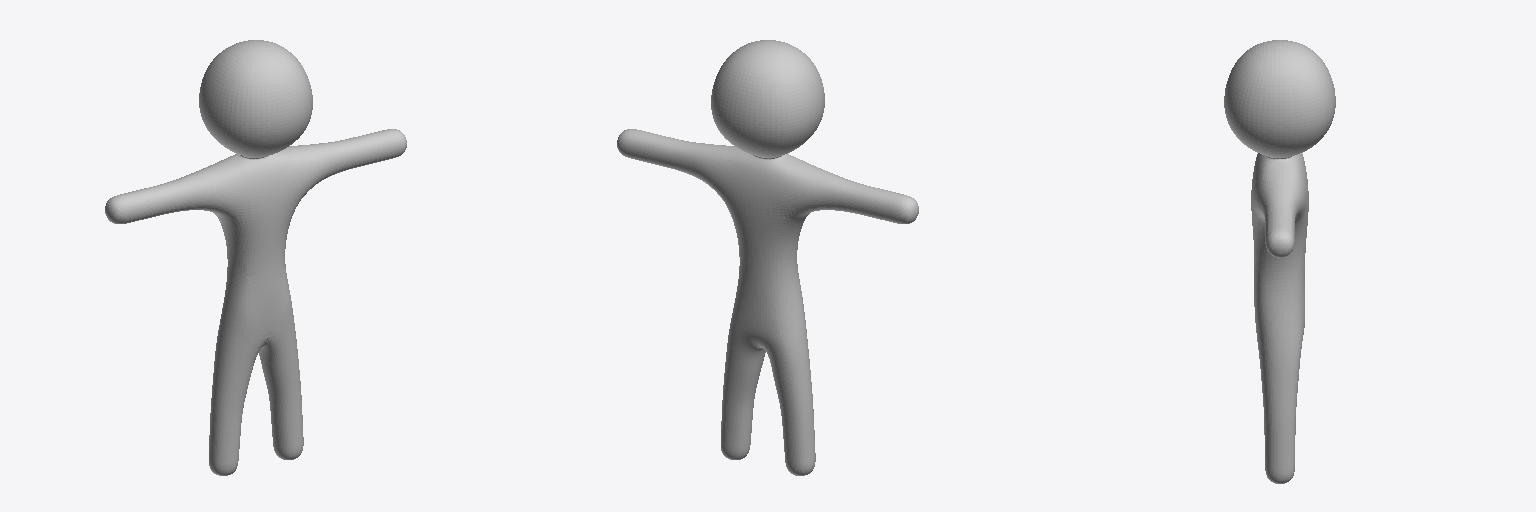
File: Stickman.obj
3 renders of one model, left to right at view 1: azimuth 30°, elevation 25°; view 2: azimuth 150°, elevation 25°; view 3: azimuth 270°, elevation 25°, orthographic.
Parts seen in each view (by area): view 1: Stickman_Vert.001; view 2: Stickman_Vert.001; view 3: Stickman_Vert.001.
Boxes of the visible parts, x1,y1,x2,y2 form: Stickman_Vert.001: [105, 40, 406, 475]; Stickman_Vert.001: [617, 40, 918, 475]; Stickman_Vert.001: [1224, 40, 1335, 483].
Size of the model in its own units: 0.3557 by 0.4816 by 0.1157.